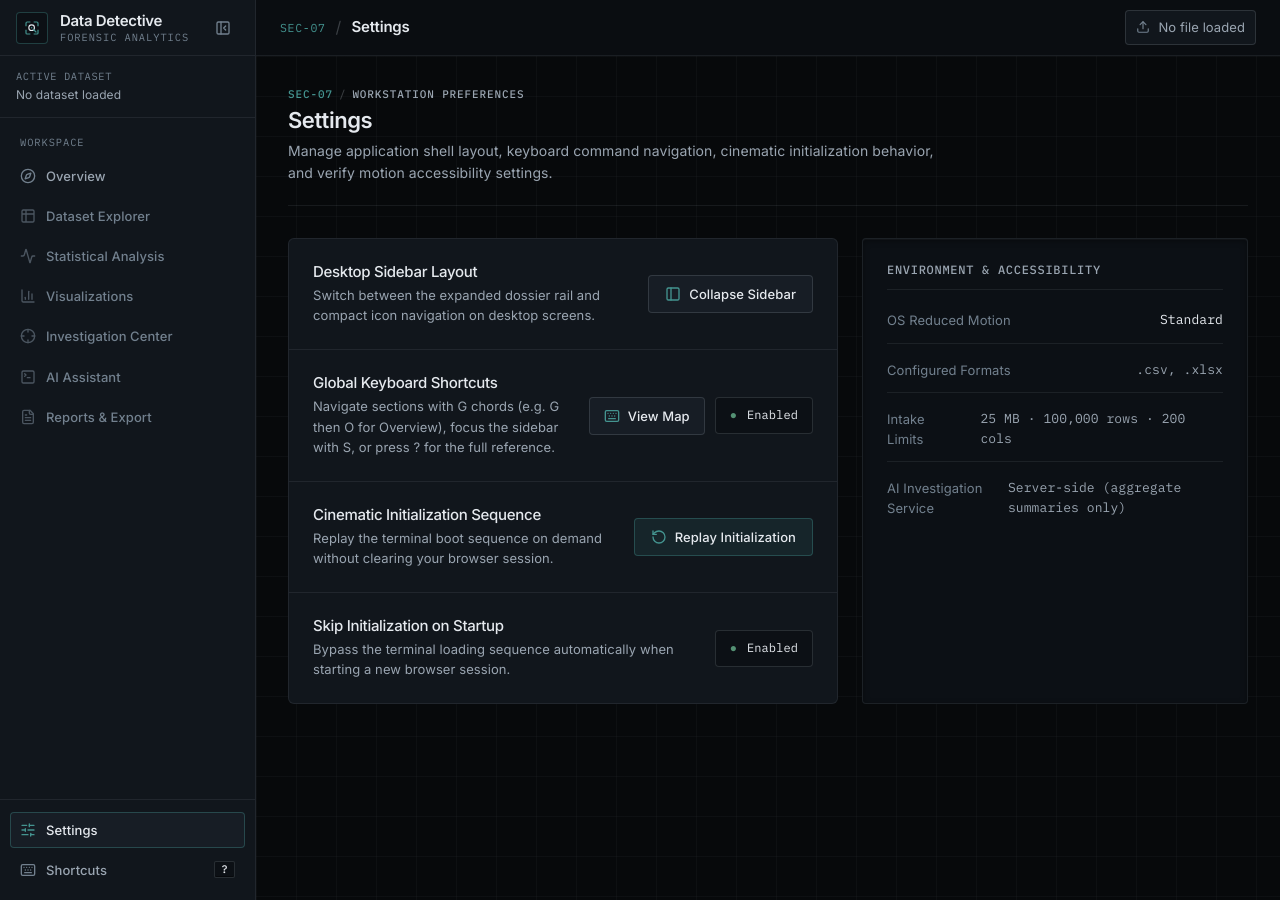
Scenario: Consolidation Batch 3 — Unified Interface & Navigation Shell › renders interactive desktop/mobile Topbar dataset context without Replay Intro or Overview links, and keeps Intro Replay working in Settings
Expected: the heading "Settings" in the row of "No file loaded" is shown, [352,18,410,36]
Expected: the link with test id "topbar-dataset-context" reads "No file loaded", [1125,10,1256,44]
Note: Replay Initialization button in Settings launches the BootSequence cleanly
Click the button "Replay Initialization" at (723, 537), box [634,518,813,556]
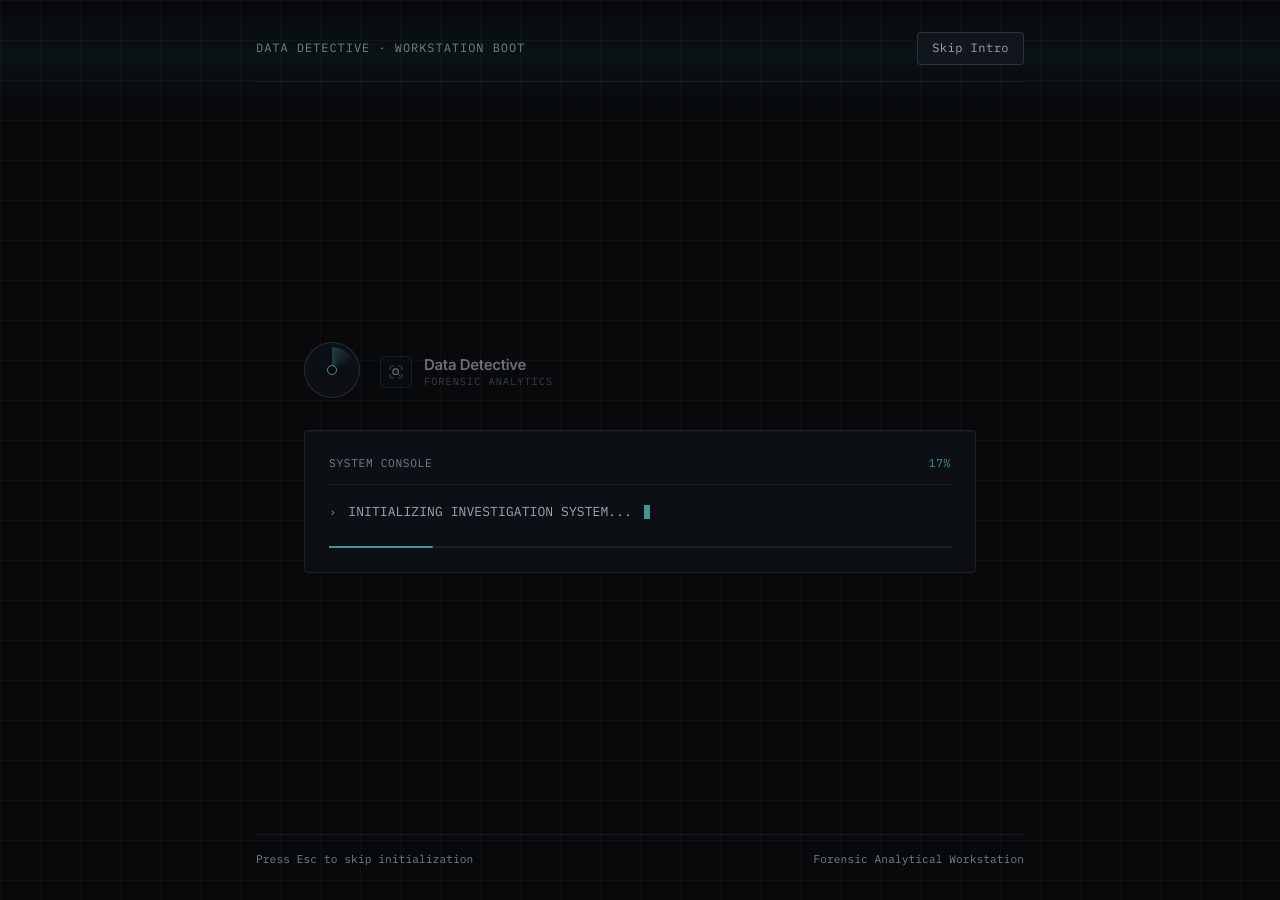
Now the button "Skip Intro" is shown
Now the text "Forensic Analytical Workstation" is shown, box [813,851,1024,868]
Note: Dismiss boot sequence and click Topbar dataset link to navigate to Overview
Click the button "Skip Intro" at (971, 48), box [917,32,1024,65]
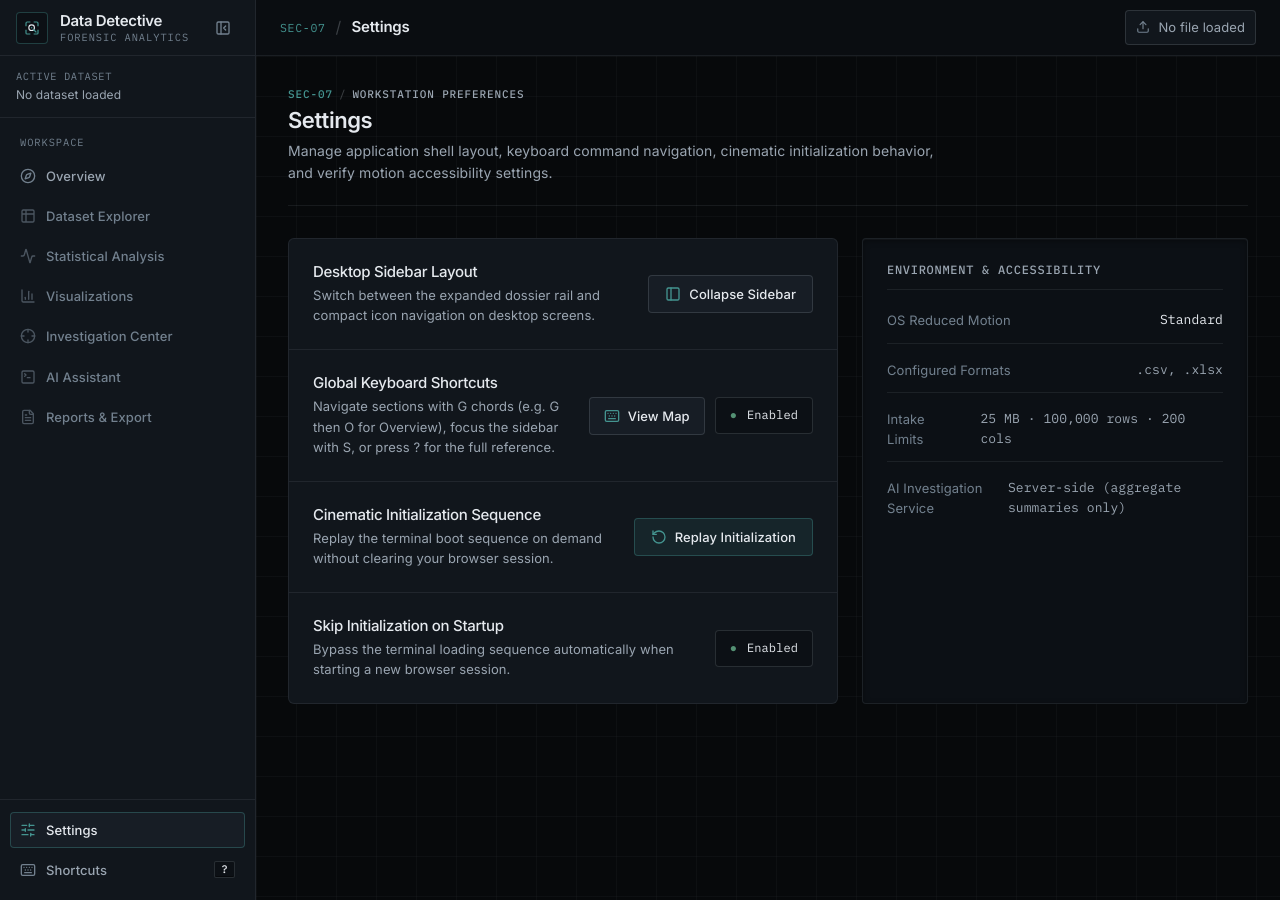
Now the button "Skip Intro" is gone
Click the link with test id "topbar-dataset-context" at (1191, 27), box [1125,10,1256,44]
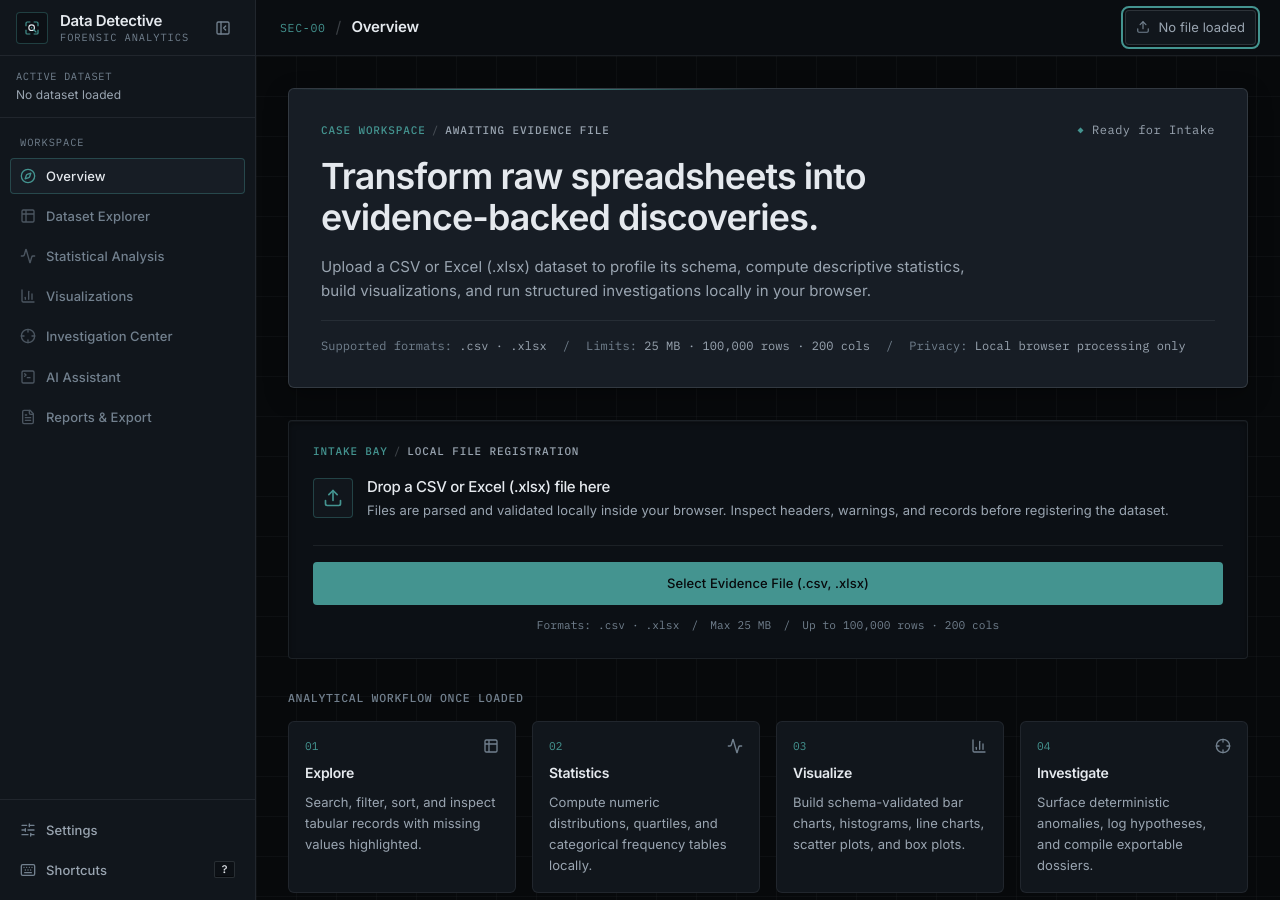
Now the element with test id "overview-onboarding-hero" is shown, box [288,88,1248,388]
